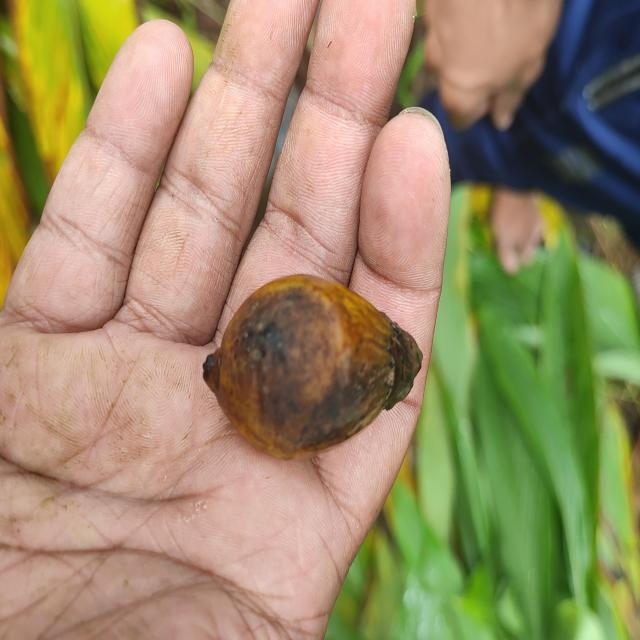damaged: (198, 269, 426, 464)
